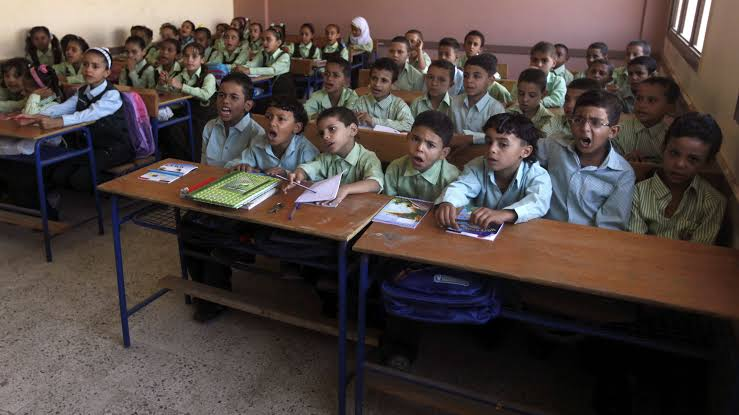student: (669, 110, 716, 186), (569, 93, 624, 155), (482, 114, 536, 176), (405, 109, 455, 171), (214, 69, 252, 126), (266, 96, 307, 146), (315, 110, 359, 155), (638, 77, 676, 123), (513, 66, 545, 115), (626, 57, 663, 95), (80, 45, 114, 86), (564, 78, 603, 111), (366, 56, 395, 99), (2, 59, 33, 98), (531, 43, 561, 80), (177, 38, 204, 76), (320, 56, 346, 95), (26, 24, 57, 56), (427, 57, 450, 99), (465, 56, 485, 104), (623, 35, 652, 66), (390, 32, 412, 72), (590, 56, 615, 91), (59, 30, 84, 64), (465, 22, 486, 62), (436, 33, 461, 65), (123, 30, 147, 63), (157, 37, 181, 69), (586, 36, 609, 68), (404, 24, 423, 56), (346, 14, 369, 40), (257, 28, 277, 54), (223, 24, 242, 51), (158, 20, 179, 43), (321, 24, 342, 46), (176, 15, 195, 39), (299, 21, 312, 50)
